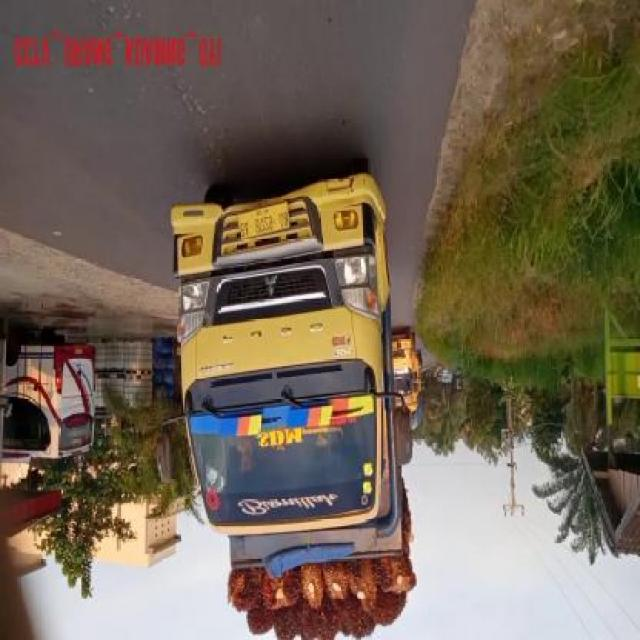truck: (159, 170, 415, 640)
